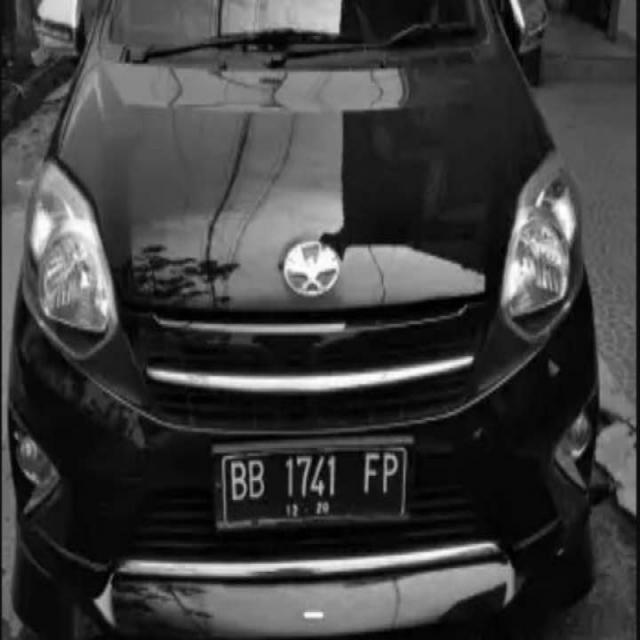1: (278, 456, 298, 500), (328, 445, 336, 508)
4: (310, 451, 328, 508)
7: (298, 450, 310, 500)
B: (230, 462, 248, 501), (248, 460, 265, 500)
F: (353, 450, 381, 494)
P: (381, 451, 398, 494)
